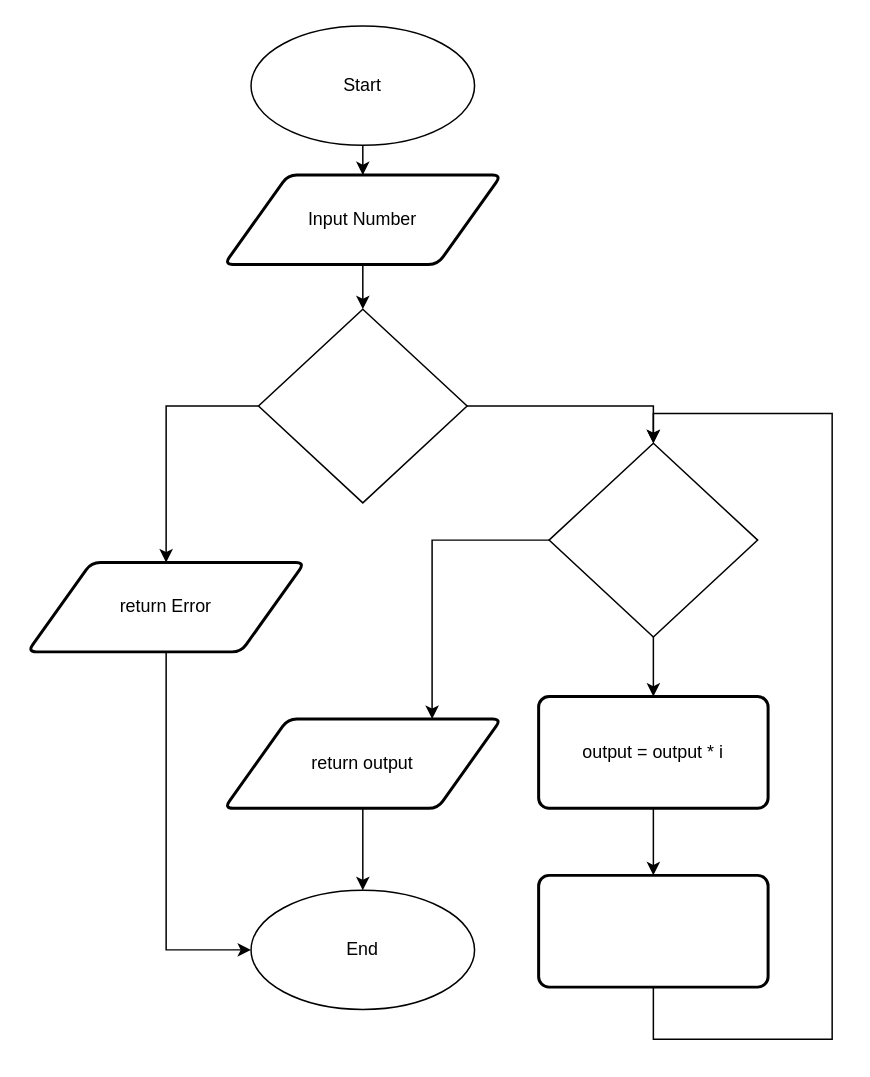
The diagram is 870 pixels wide and 1077 high, and some of its shapes have lost their labels. Each missing label, with the centre of its shape:
"If i is less than or equal to num" goes at point (653, 539).
"increase i by 1" goes at point (652, 930).
"Is Input Number Below 0" goes at point (362, 405).
